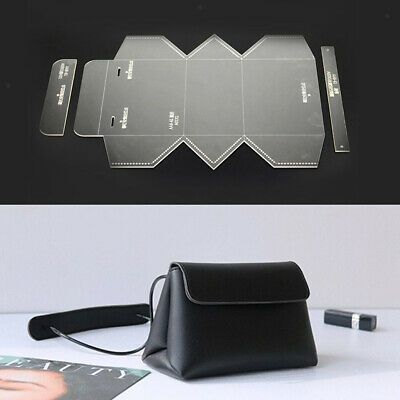cuero: (142, 260, 320, 382)
